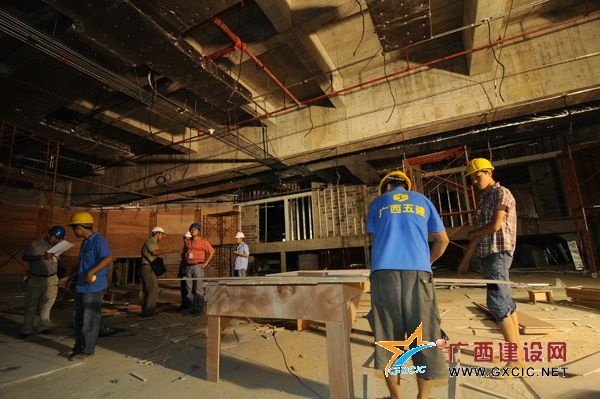blue: (46, 224, 64, 246), (188, 221, 201, 238)
white: (151, 225, 164, 241), (234, 230, 244, 246)
yellow: (463, 154, 493, 191), (379, 168, 413, 197), (70, 208, 95, 239)
